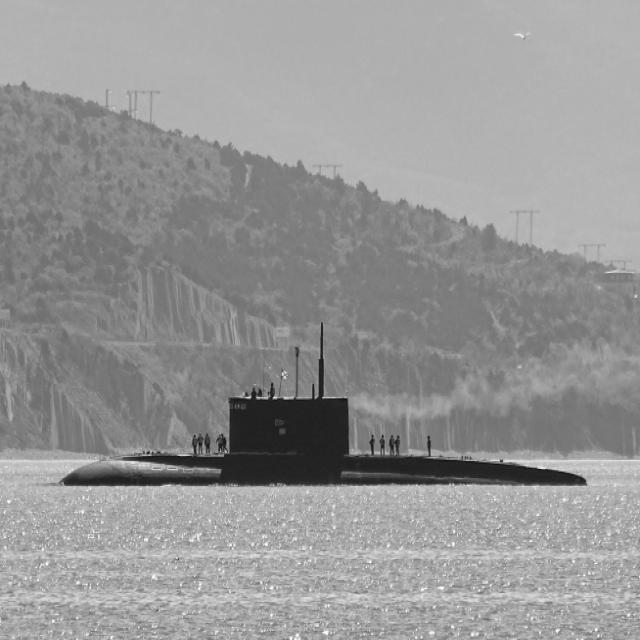submarine: (39, 309, 606, 483)
